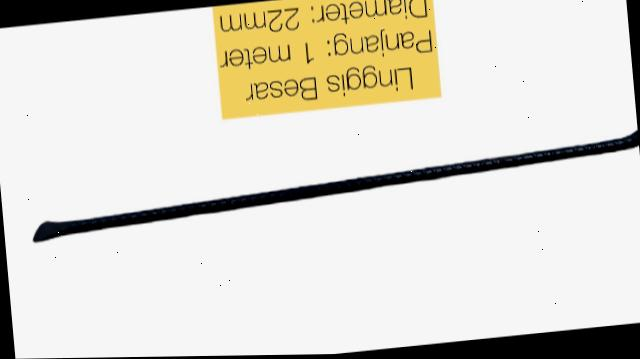crow bar: (27, 98, 640, 245)
